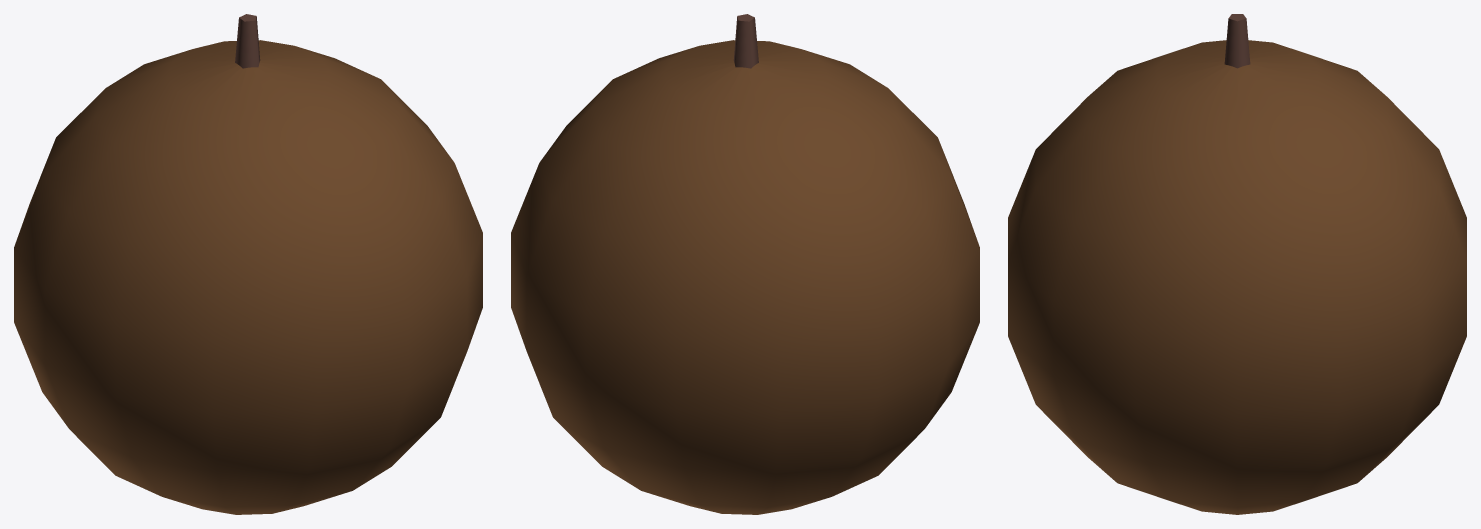
Rendered from fruit-coconut-plain.gltf.
3 renders of one model, left to right at view 1: azimuth 30°, elevation 25°; view 2: azimuth 150°, elevation 25°; view 3: azimuth 270°, elevation 25°, orthographic.
Size of the model in its own units: 0.5515 by 0.616 by 0.5377.
